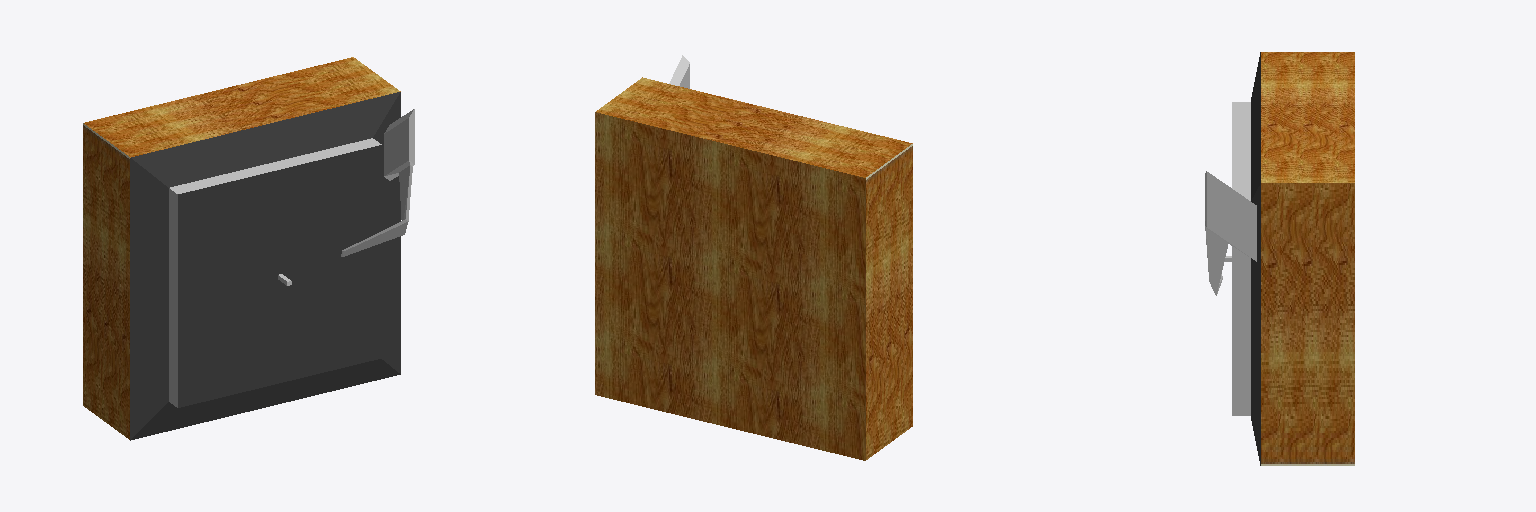
3 renders of one model, left to right at view 1: azimuth 30°, elevation 25°; view 2: azimuth 150°, elevation 25°; view 3: azimuth 270°, elevation 25°, orthographic.
Bounding box in the file's own units: 50 × 51.06 × 24.14.
Materials: 1 (1 with a texture image).